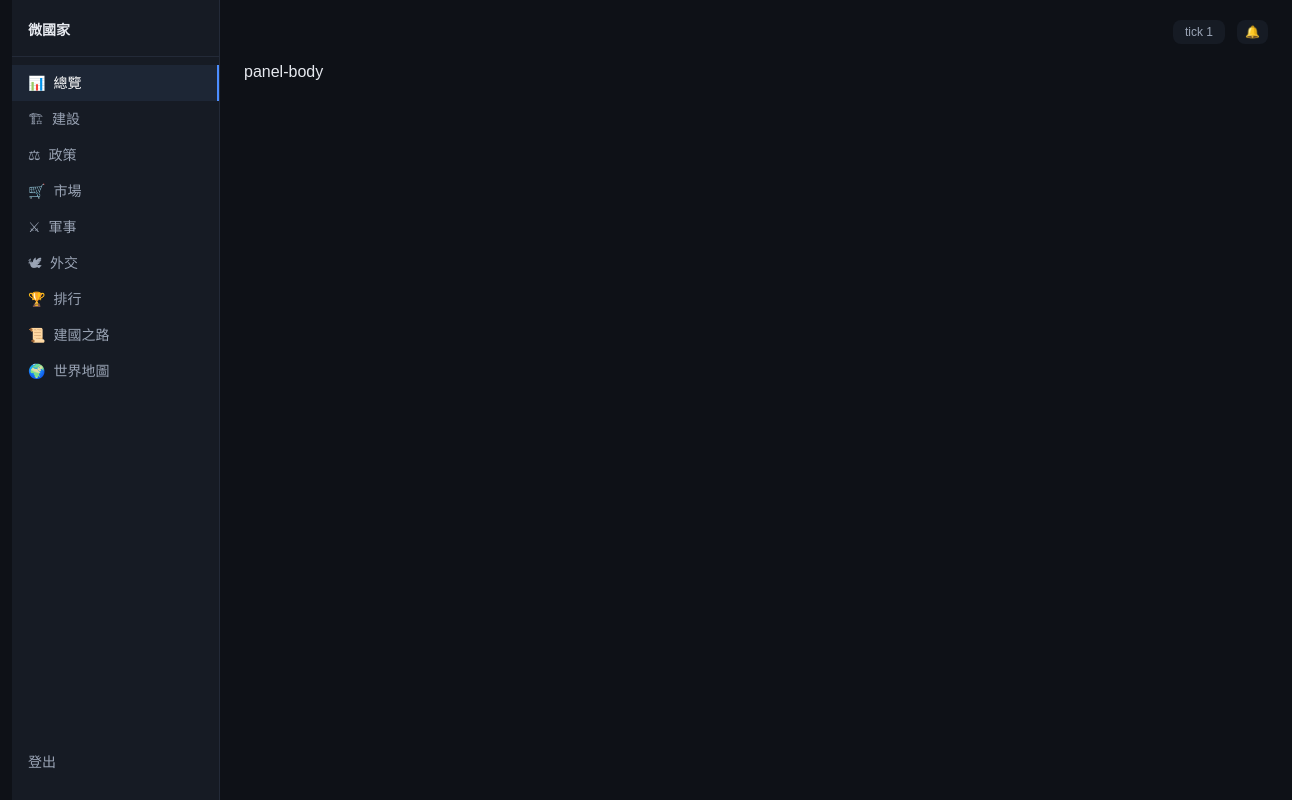
Test: PanelLayout — 登出失敗處理(Codex 四審⑪) › authFn.logout() 失敗時:留在原頁、顯示錯誤、提供重試,不導向 /login
Click the button "登出" at coordinates (116, 762), box [12,744,219,780]
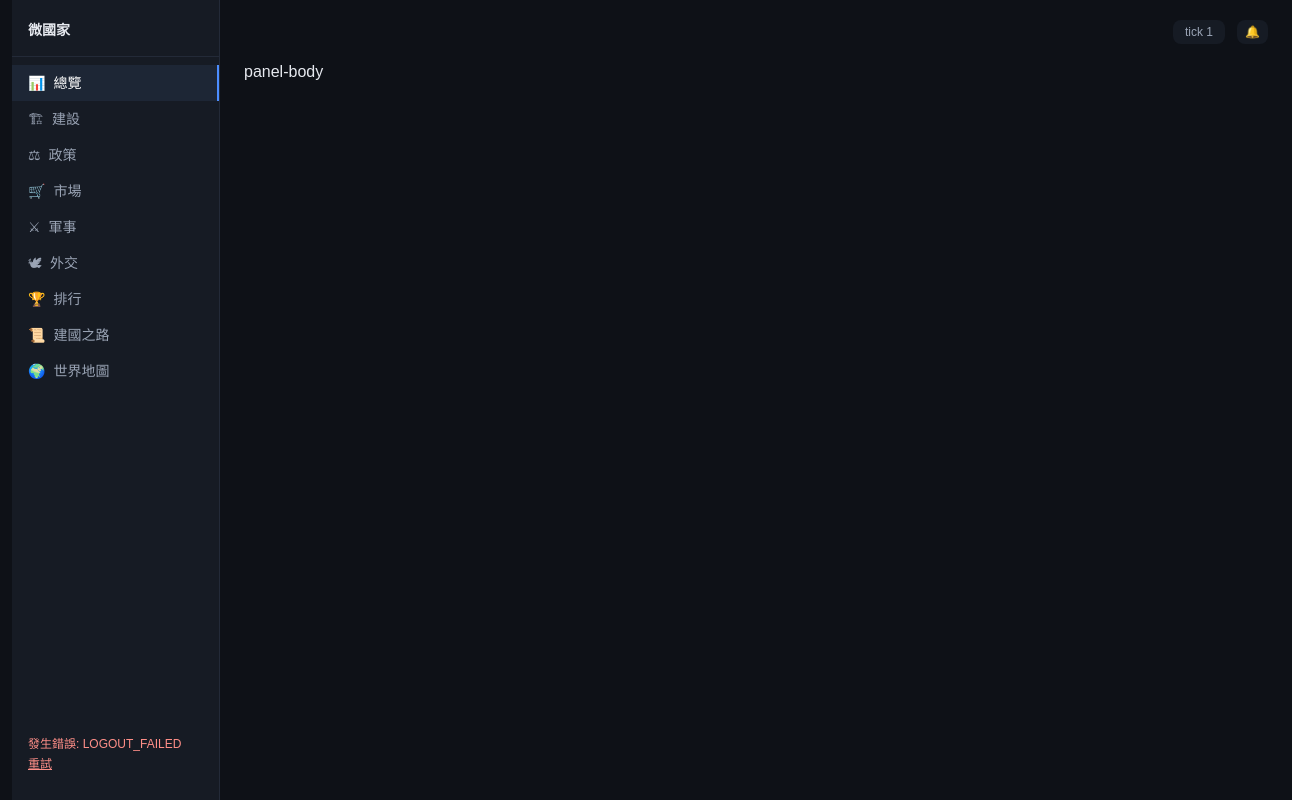
Expected: the text "panel-body" is shown, [244,63,323,80]
Expected: the text "發生錯誤: LOGOUT_FAILED" is shown, [28,736,203,752]
Expected: the button "重試" is shown, [28,756,52,772]
